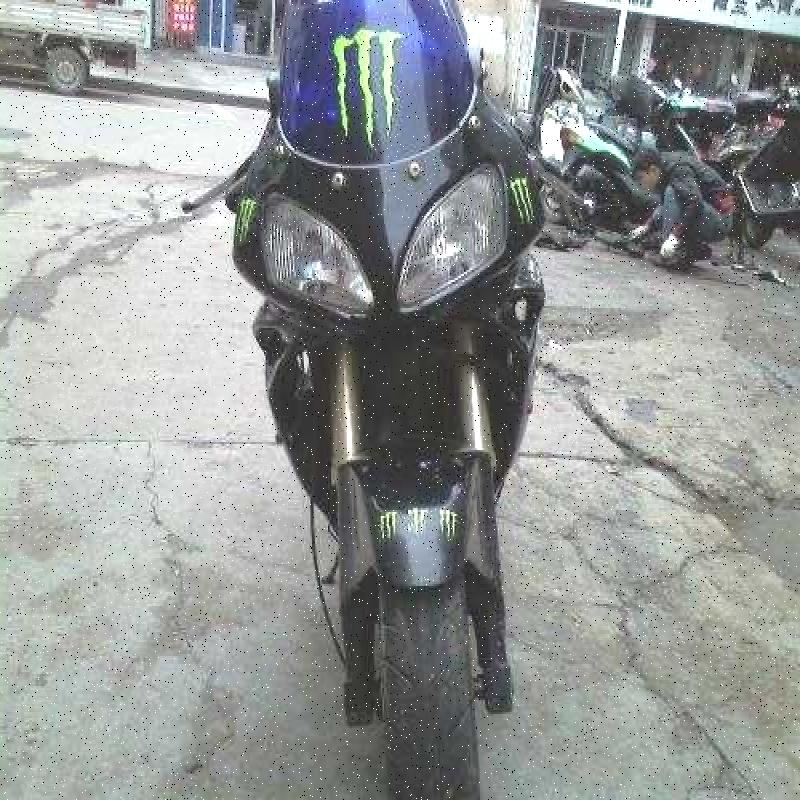bike: (132, 0, 588, 800)
